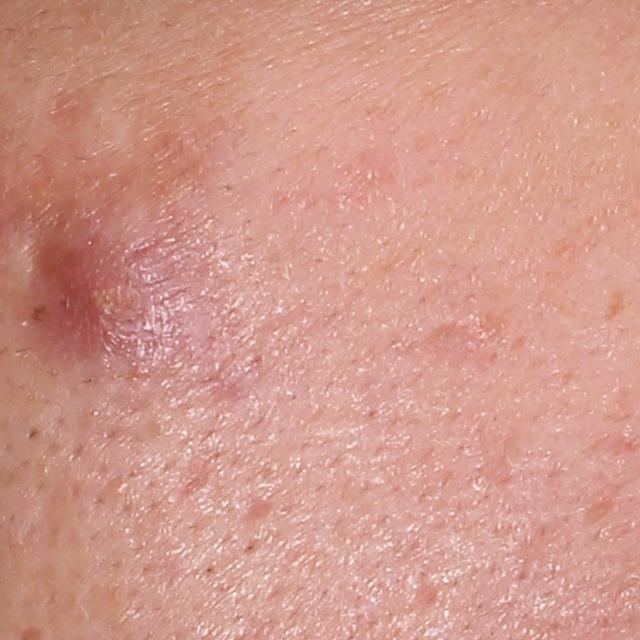atrophic_scar: (414, 319, 493, 366), (232, 493, 276, 530), (413, 564, 441, 609)
